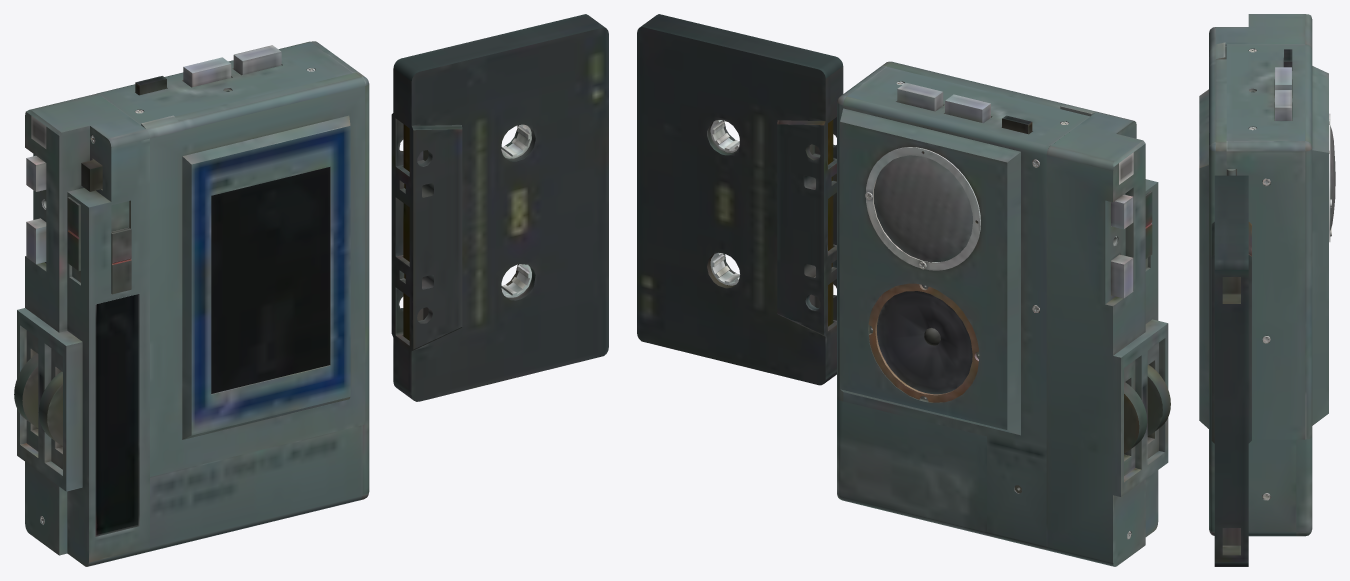
File: portable_cassette_player.glb
The picture shows the model from 3 angles, left to right: view 1: azimuth 30°, elevation 25°; view 2: azimuth 150°, elevation 25°; view 3: azimuth 270°, elevation 25°; orthographic projection. The views are drawn at different scales.
Parts seen in each view (by area): view 1: portable_cassette_player_lid; view 2: portable_cassette_player_lid; view 3: portable_cassette_player_lid.
Boxes of the visible parts, box(x1,y1,x2,y2) form: portable_cassette_player_lid: box(14, 14, 608, 566); portable_cassette_player_lid: box(637, 14, 1170, 566); portable_cassette_player_lid: box(1199, 14, 1335, 566).
Bounding box in the file's own units: 0.1723 × 0.1303 × 0.0397.
Materials: 2 (2 with a texture image).
